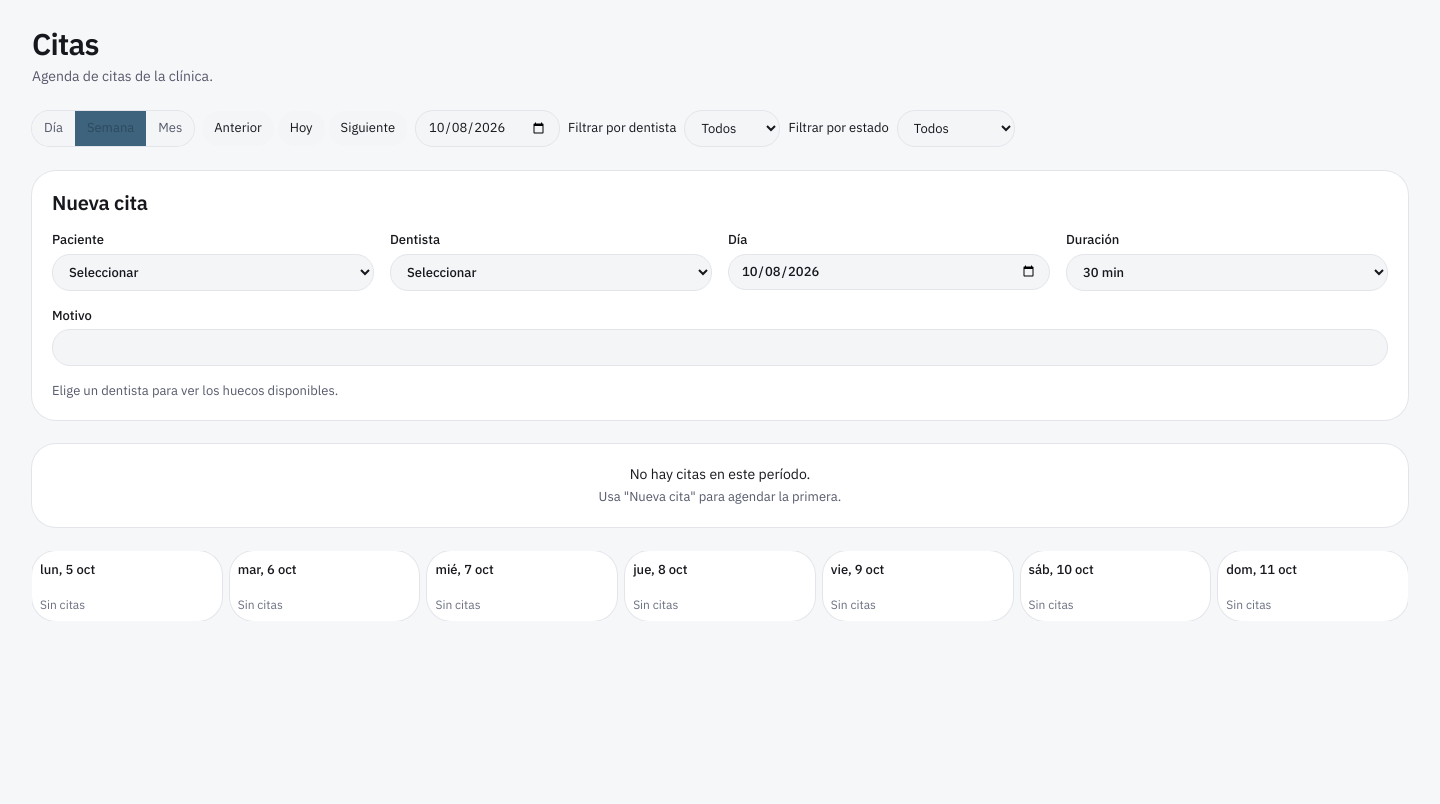
Test: Citas — agenda por vistas › deriva el eje horario del día del horario real de la clínica
This screenshot has width=1440, height=804.
Expected: the text "No hay citas en este período." is shown, [630, 465, 810, 483]
Click the button "Día" at (53,128), box [32, 111, 75, 146]
(page scrolled)
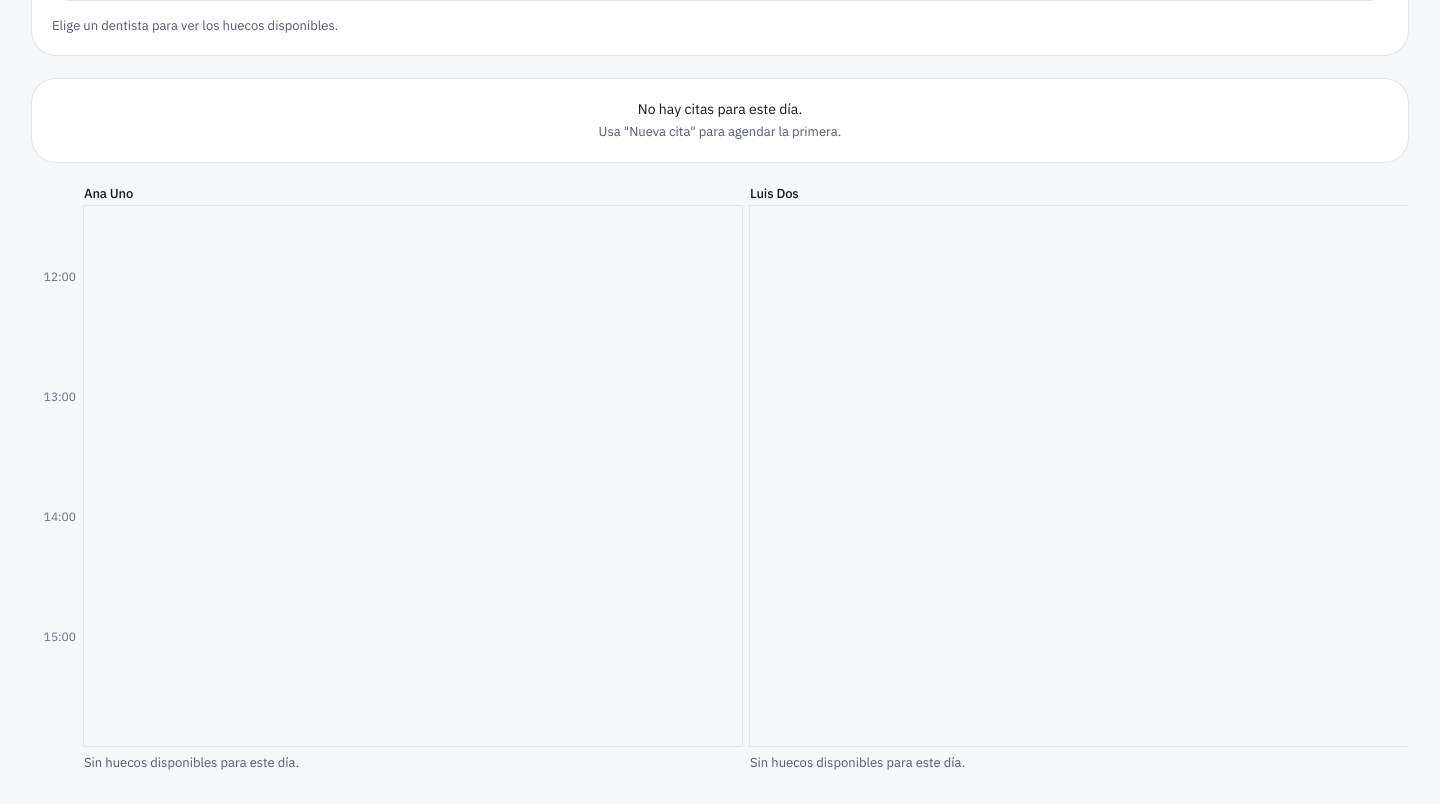
Expected: the text "12:00" is shown, [44, 268, 76, 285]
Expected: the text "15:00" is shown, [44, 628, 76, 645]
